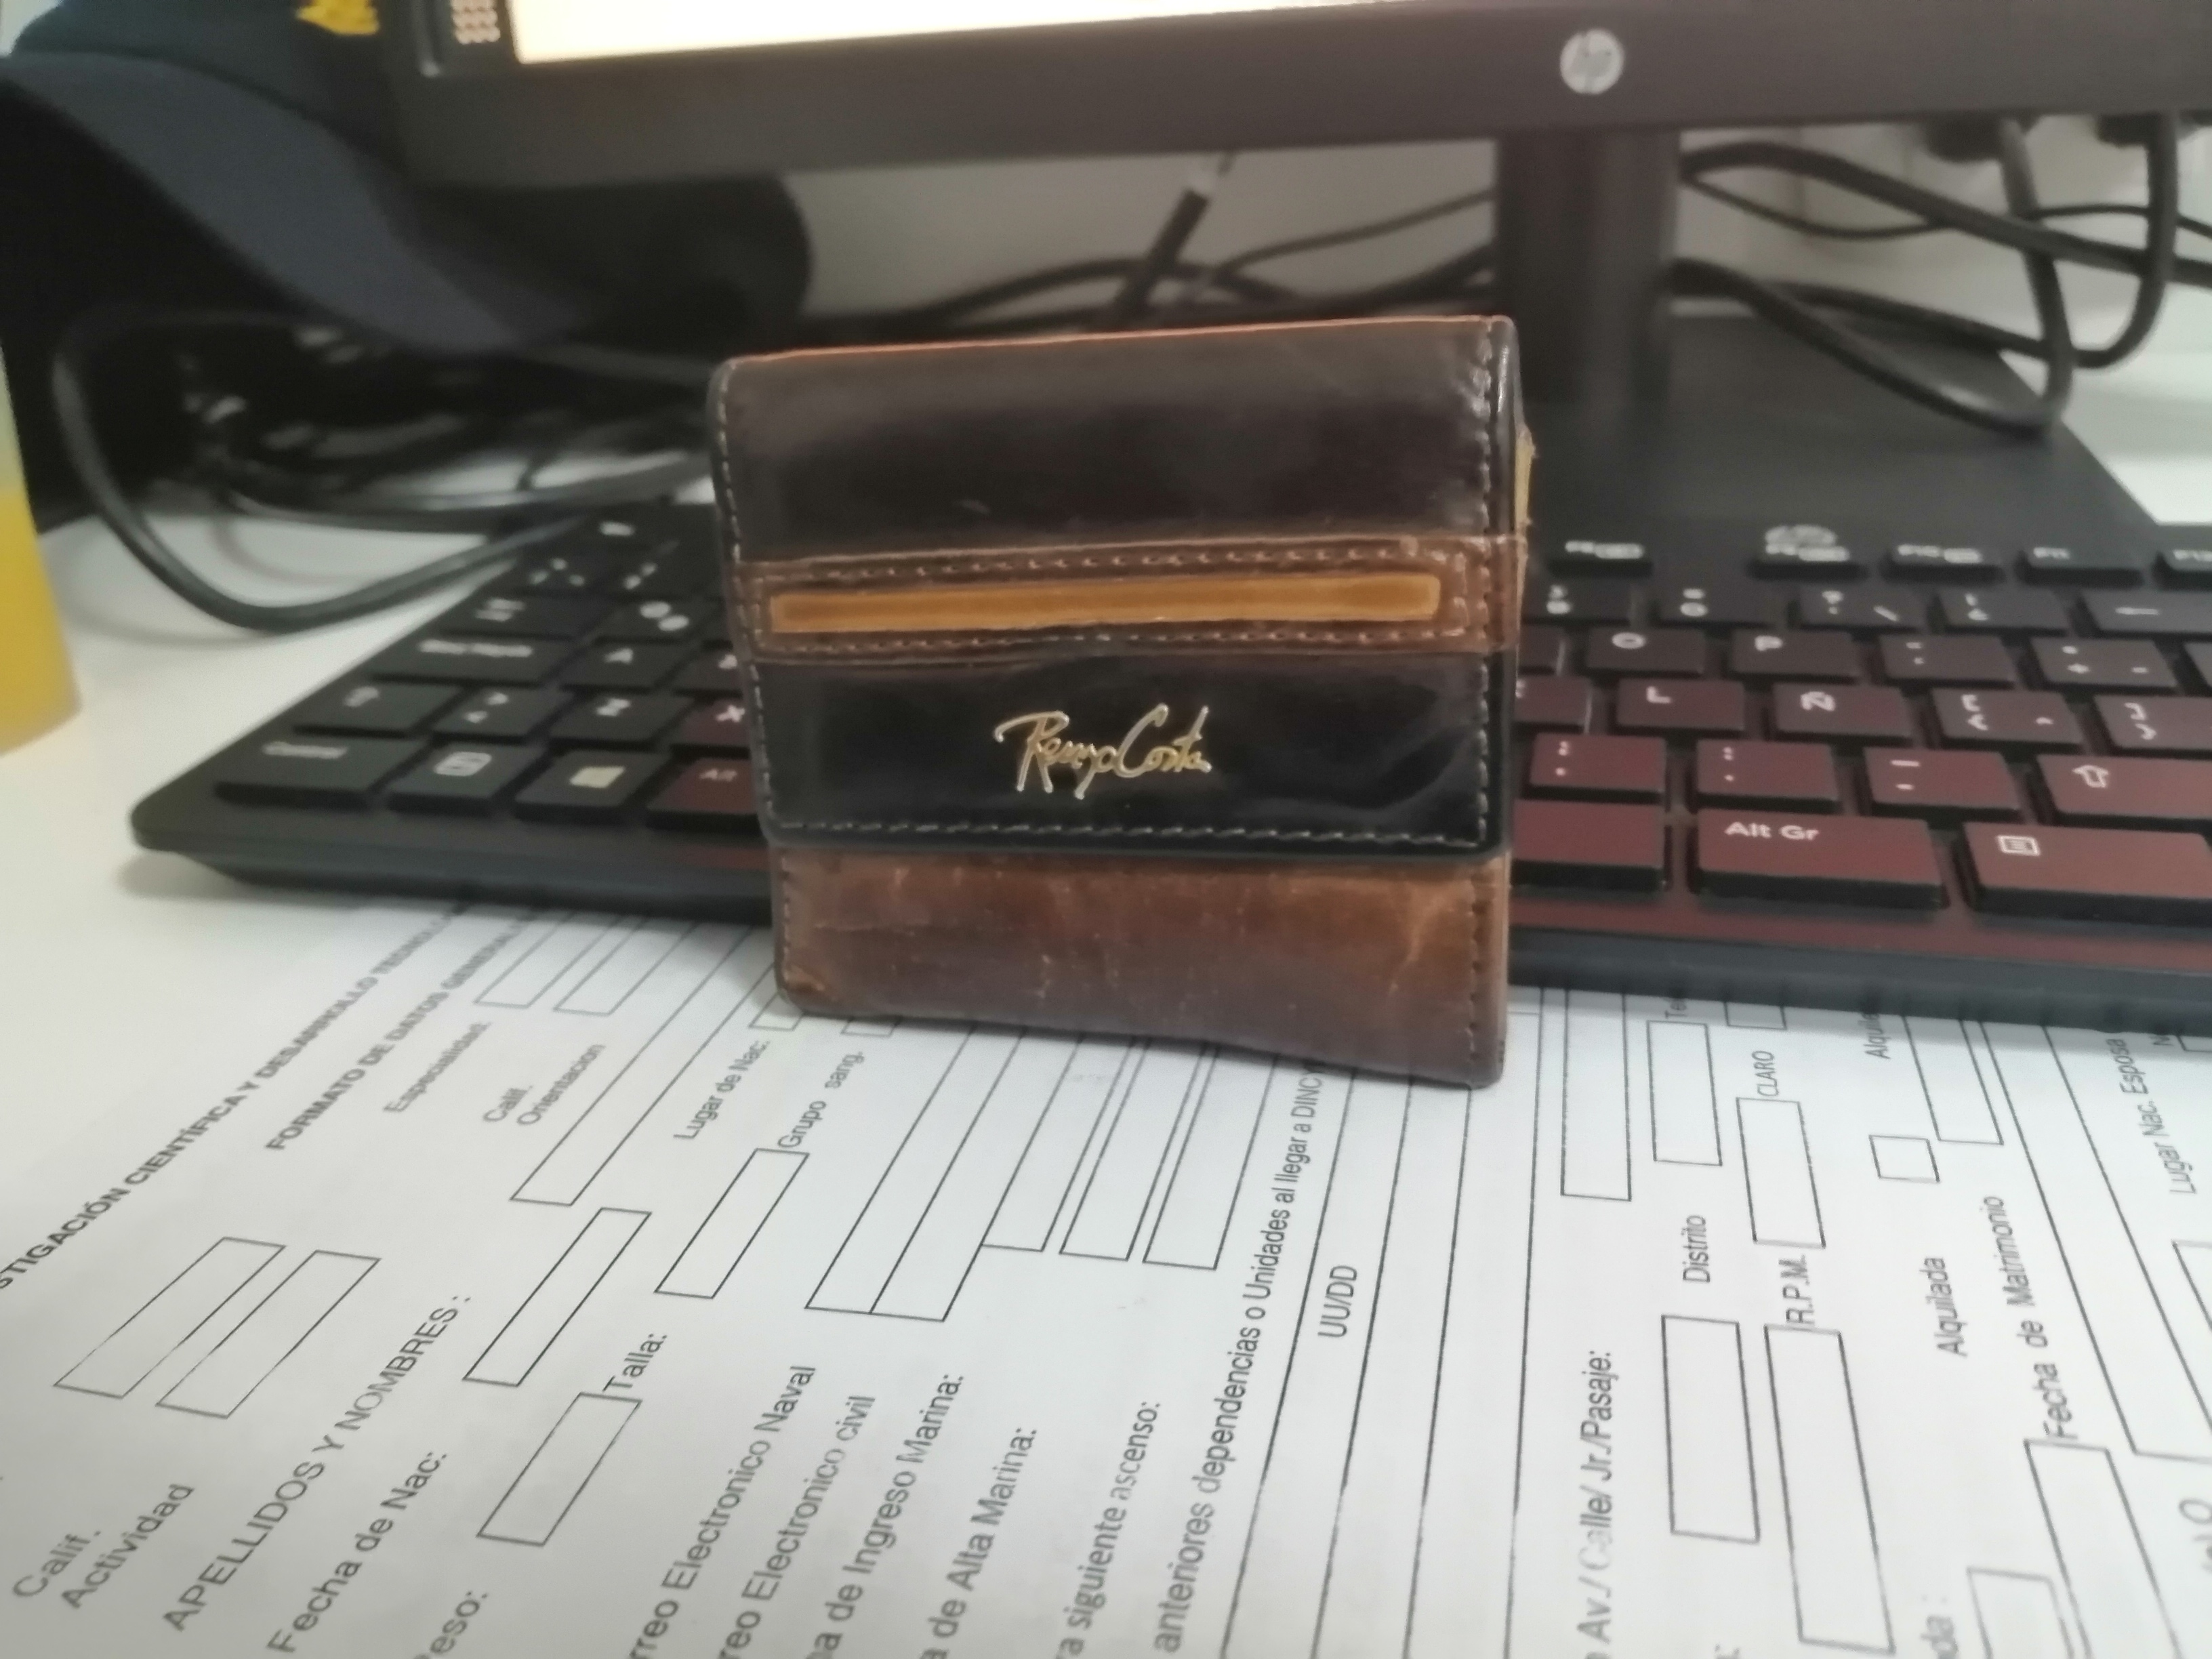monedero: (685, 295, 1548, 1110)
